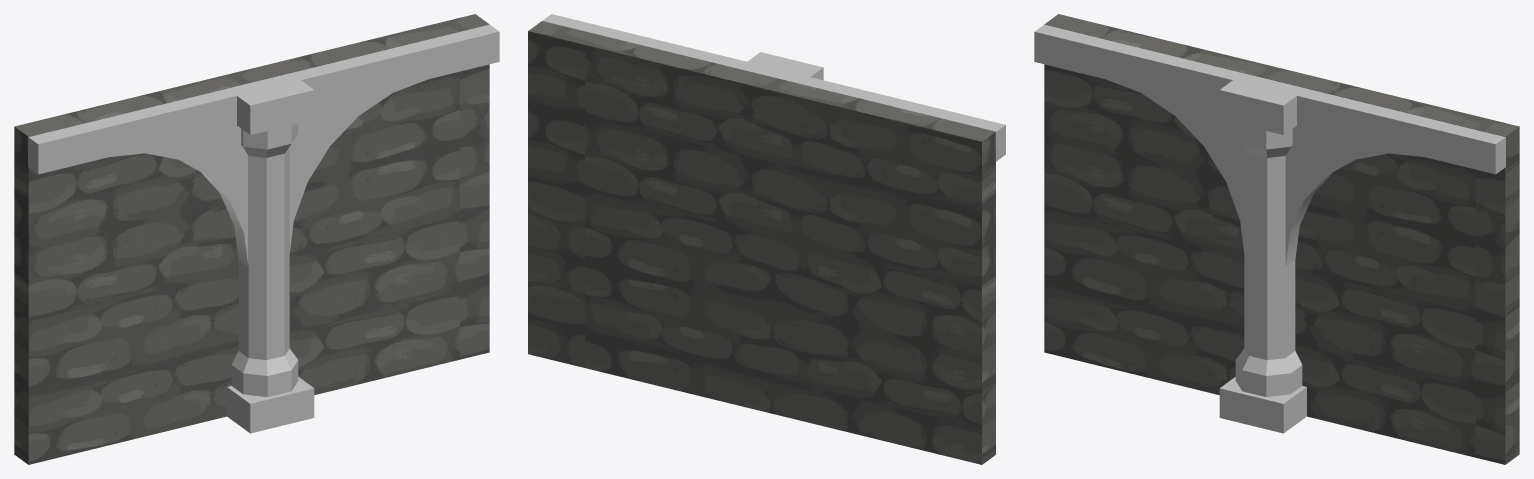
Rendered from wall_column.fbx.
The picture shows the model from 3 angles, left to right: view 1: azimuth 30°, elevation 25°; view 2: azimuth 150°, elevation 25°; view 3: azimuth 330°, elevation 25°; orthographic projection.
Parts seen in each view (by area): view 1: wall, arc1, column1, arc, platform2, platform1; view 2: wall, arc1, arc, platform2; view 3: wall, arc, column1, arc1, platform2, platform1.
Boxes of the visible parts, x1,y1,x2,y2 form: wall: (14,14,489,464); arc1: (28,88,248,266); column1: (231,123,298,396); arc: (289,24,499,252); platform2: (227,73,314,134); platform1: (227,377,314,433); wall: (528,21,995,464); arc1: (801,77,1005,161); arc: (542,14,746,68); platform2: (738,52,823,83); wall: (1044,14,1519,464); arc: (1285,88,1505,266); column1: (1235,123,1302,396); arc1: (1034,24,1244,252); platform2: (1219,73,1306,134); platform1: (1219,377,1306,433).
Bounding box in the file's own units: 31.24 × 21.23 × 4.39.
